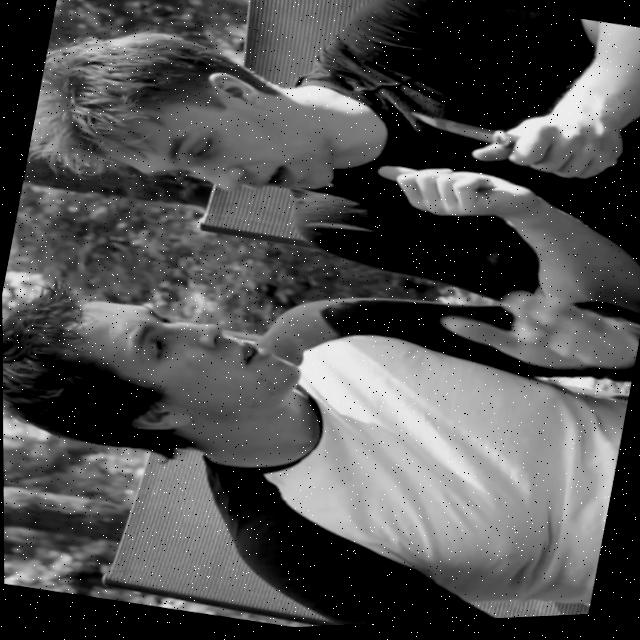knife: (403, 101, 521, 166)
